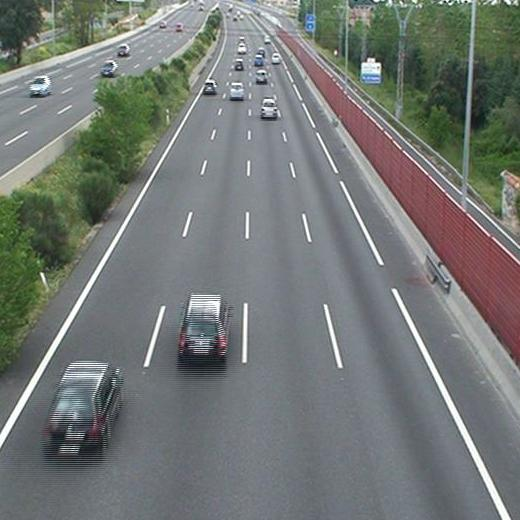car: (49, 362, 119, 444), (179, 295, 226, 360), (261, 98, 277, 117), (230, 83, 244, 98), (204, 81, 216, 93), (255, 71, 267, 82), (234, 58, 243, 69), (271, 53, 280, 64), (237, 43, 246, 53), (255, 55, 263, 65)
